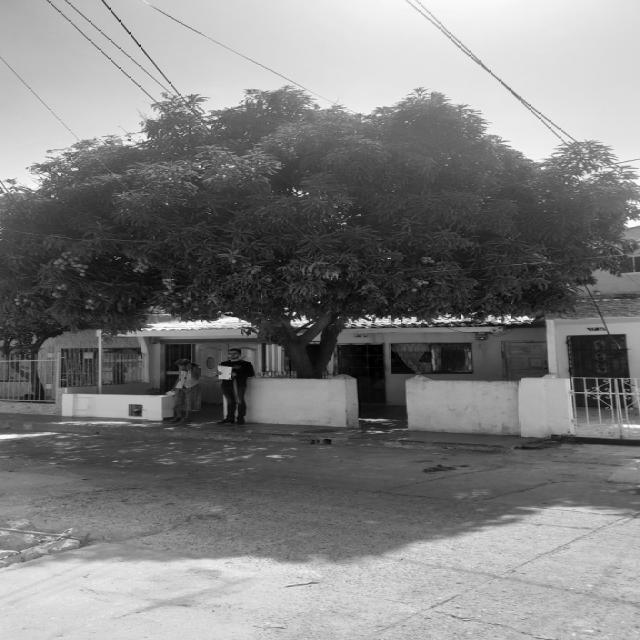Mango-Tree: (0, 115, 594, 374)
